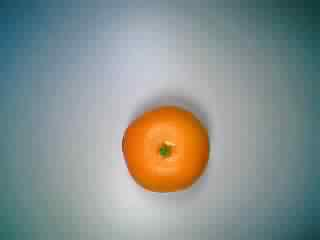orange: (119, 99, 215, 195)
